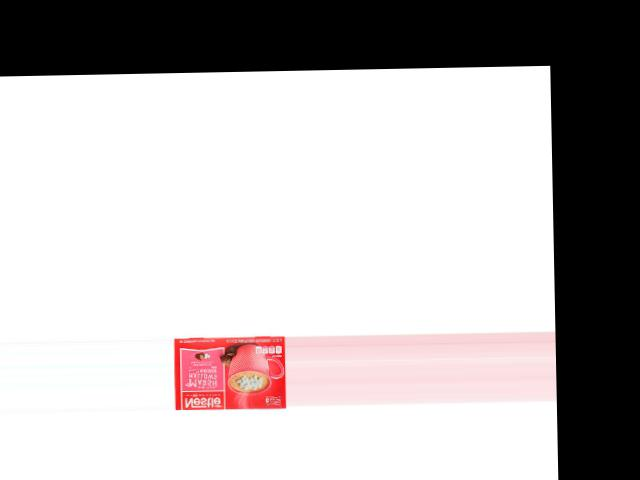chocolate: (176, 331, 287, 407)
